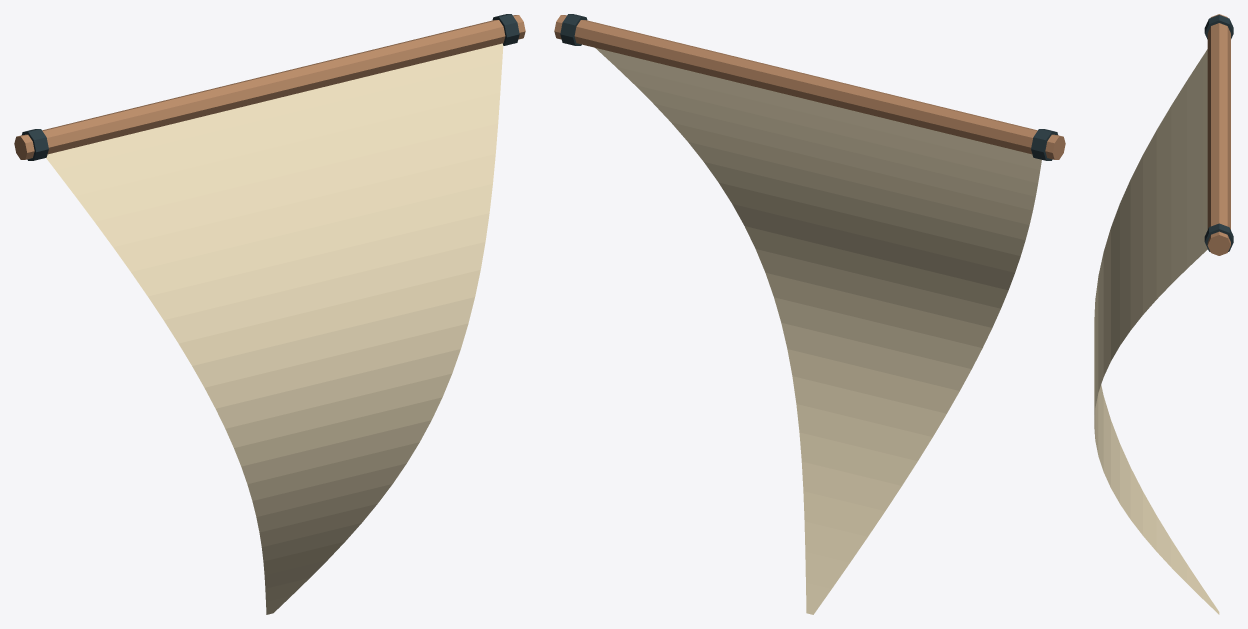
Rendered from main_sail_pointed.glb.
3 renders of one model, left to right at view 1: azimuth 30°, elevation 25°; view 2: azimuth 150°, elevation 25°; view 3: azimuth 270°, elevation 25°, orthographic. The views are drawn at different scales.
Visible parts, largest first — view 1: main_sail cloth pointed, main_sail yard.003; view 2: main_sail cloth pointed, main_sail yard.003; view 3: main_sail cloth pointed, main_sail yard.003, Yard iron collar.007, Yard iron collar.006.
Part boxes in pixels (x1=…): main_sail cloth pointed: x1=46, y1=43, x2=503, y2=614; main_sail yard.003: x1=14, y1=15, x2=525, y2=159; main_sail cloth pointed: x1=595, y1=48, x2=1041, y2=614; main_sail yard.003: x1=554, y1=15, x2=1065, y2=159; main_sail cloth pointed: x1=1094, y1=49, x2=1219, y2=614; main_sail yard.003: x1=1207, y1=14, x2=1230, y2=255; Yard iron collar.007: x1=1204, y1=223, x2=1233, y2=251; Yard iron collar.006: x1=1204, y1=15, x2=1233, y2=39.
Bounding box in the file's own units: 4.68 × 4.85 × 1.25.
